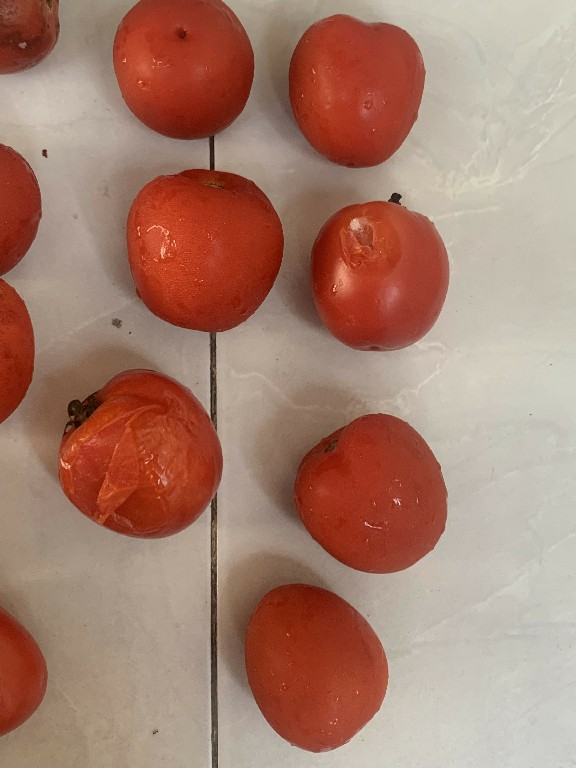NG: (52, 358, 233, 548), (299, 187, 456, 361)
OK: (279, 395, 472, 578), (117, 155, 294, 343), (254, 586, 403, 760), (283, 6, 430, 179), (97, 0, 265, 144)
